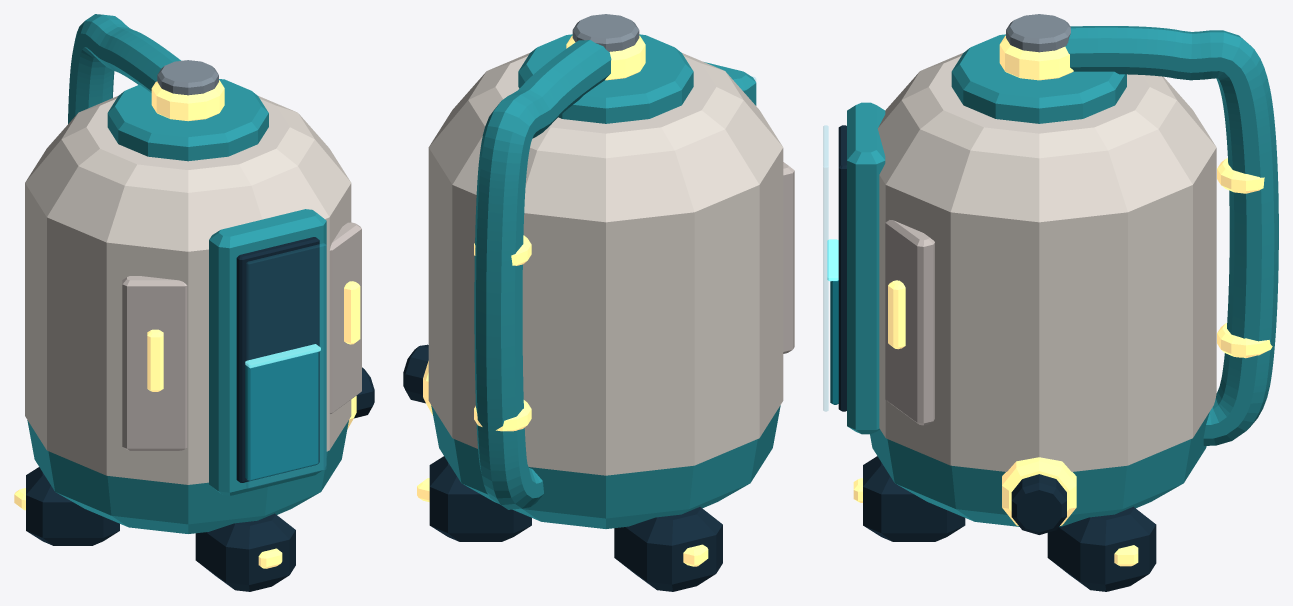
The model's file is tanque_agua.glb.
The picture shows the model from 3 angles, left to right: view 1: azimuth 30°, elevation 25°; view 2: azimuth 150°, elevation 25°; view 3: azimuth 270°, elevation 25°; orthographic projection. The views are drawn at different scales.
Visible parts, largest first — view 1: CuerpoAcorazado, CristalMirilla, MarcoMirilla, FajaInferior, FondoMirilla, Protector, Agua, TapaServicio, TuberiaTrasera, Pata, _MeshInstance3D_15, _MeshInstance3D_11 (+6 smaller); view 2: CuerpoAcorazado, TuberiaTrasera, FajaInferior, TapaServicio, _MeshInstance3D_11, _MeshInstance3D_13, Protector, CierreSuperior, ValvulaSuperior, Acople, MarcoMirilla, AbrazaderaTrasera; view 3: CuerpoAcorazado, TuberiaTrasera, FajaInferior, MarcoMirilla, TapaServicio, _MeshInstance3D_15, _MeshInstance3D_13, Pata, Acople, FondoMirilla, ValvulaSuperior, CierreSuperior (+6 smaller).
Part boxes in pixels (x1=…): CuerpoAcorazado: x1=25, y1=95, x2=351, y2=484; CristalMirilla: x1=246, y1=243, x2=326, y2=488; MarcoMirilla: x1=209, y1=209, x2=326, y2=495; FajaInferior: x1=27, y1=420, x2=348, y2=533; FondoMirilla: x1=236, y1=237, x2=319, y2=482; Protector: x1=122, y1=276, x2=187, y2=450; Agua: x1=245, y1=352, x2=318, y2=480; TapaServicio: x1=107, y1=79, x2=268, y2=161; TuberiaTrasera: x1=68, y1=14, x2=181, y2=123; Pata: x1=195, y1=513, x2=295, y2=591; _MeshInstance3D_15: x1=329, y1=222, x2=361, y2=413; _MeshInstance3D_11: x1=26, y1=467, x2=119, y2=545; CuerpoAcorazado: x1=428, y1=53, x2=783, y2=475; TuberiaTrasera: x1=474, y1=40, x2=611, y2=509; FajaInferior: x1=431, y1=405, x2=780, y2=528; TapaServicio: x1=518, y1=34, x2=693, y2=123; _MeshInstance3D_11: x1=614, y1=507, x2=722, y2=591; _MeshInstance3D_13: x1=429, y1=456, x2=531, y2=541; Protector: x1=783, y1=162, x2=794, y2=353; CierreSuperior: x1=572, y1=14, x2=639, y2=51; ValvulaSuperior: x1=566, y1=35, x2=645, y2=80; Acople: x1=403, y1=344, x2=428, y2=403; MarcoMirilla: x1=704, y1=62, x2=756, y2=105; AbrazaderaTrasera: x1=474, y1=400, x2=531, y2=431; CuerpoAcorazado: x1=877, y1=53, x2=1216, y2=471; TuberiaTrasera: x1=1065, y1=26, x2=1278, y2=445; FajaInferior: x1=870, y1=412, x2=1209, y2=526; MarcoMirilla: x1=847, y1=102, x2=885, y2=434; TapaServicio: x1=951, y1=34, x2=1126, y2=123; _MeshInstance3D_15: x1=885, y1=220, x2=934, y2=425; _MeshInstance3D_13: x1=1047, y1=506, x2=1156, y2=591; Pata: x1=863, y1=456, x2=965, y2=541; Acople: x1=1011, y1=474, x2=1066, y2=534; FondoMirilla: x1=838, y1=125, x2=846, y2=411; ValvulaSuperior: x1=999, y1=35, x2=1073, y2=80; CierreSuperior: x1=1006, y1=14, x2=1070, y2=52.
Bounding box in the file's own units: 1.91 × 2.67 × 2.19.
